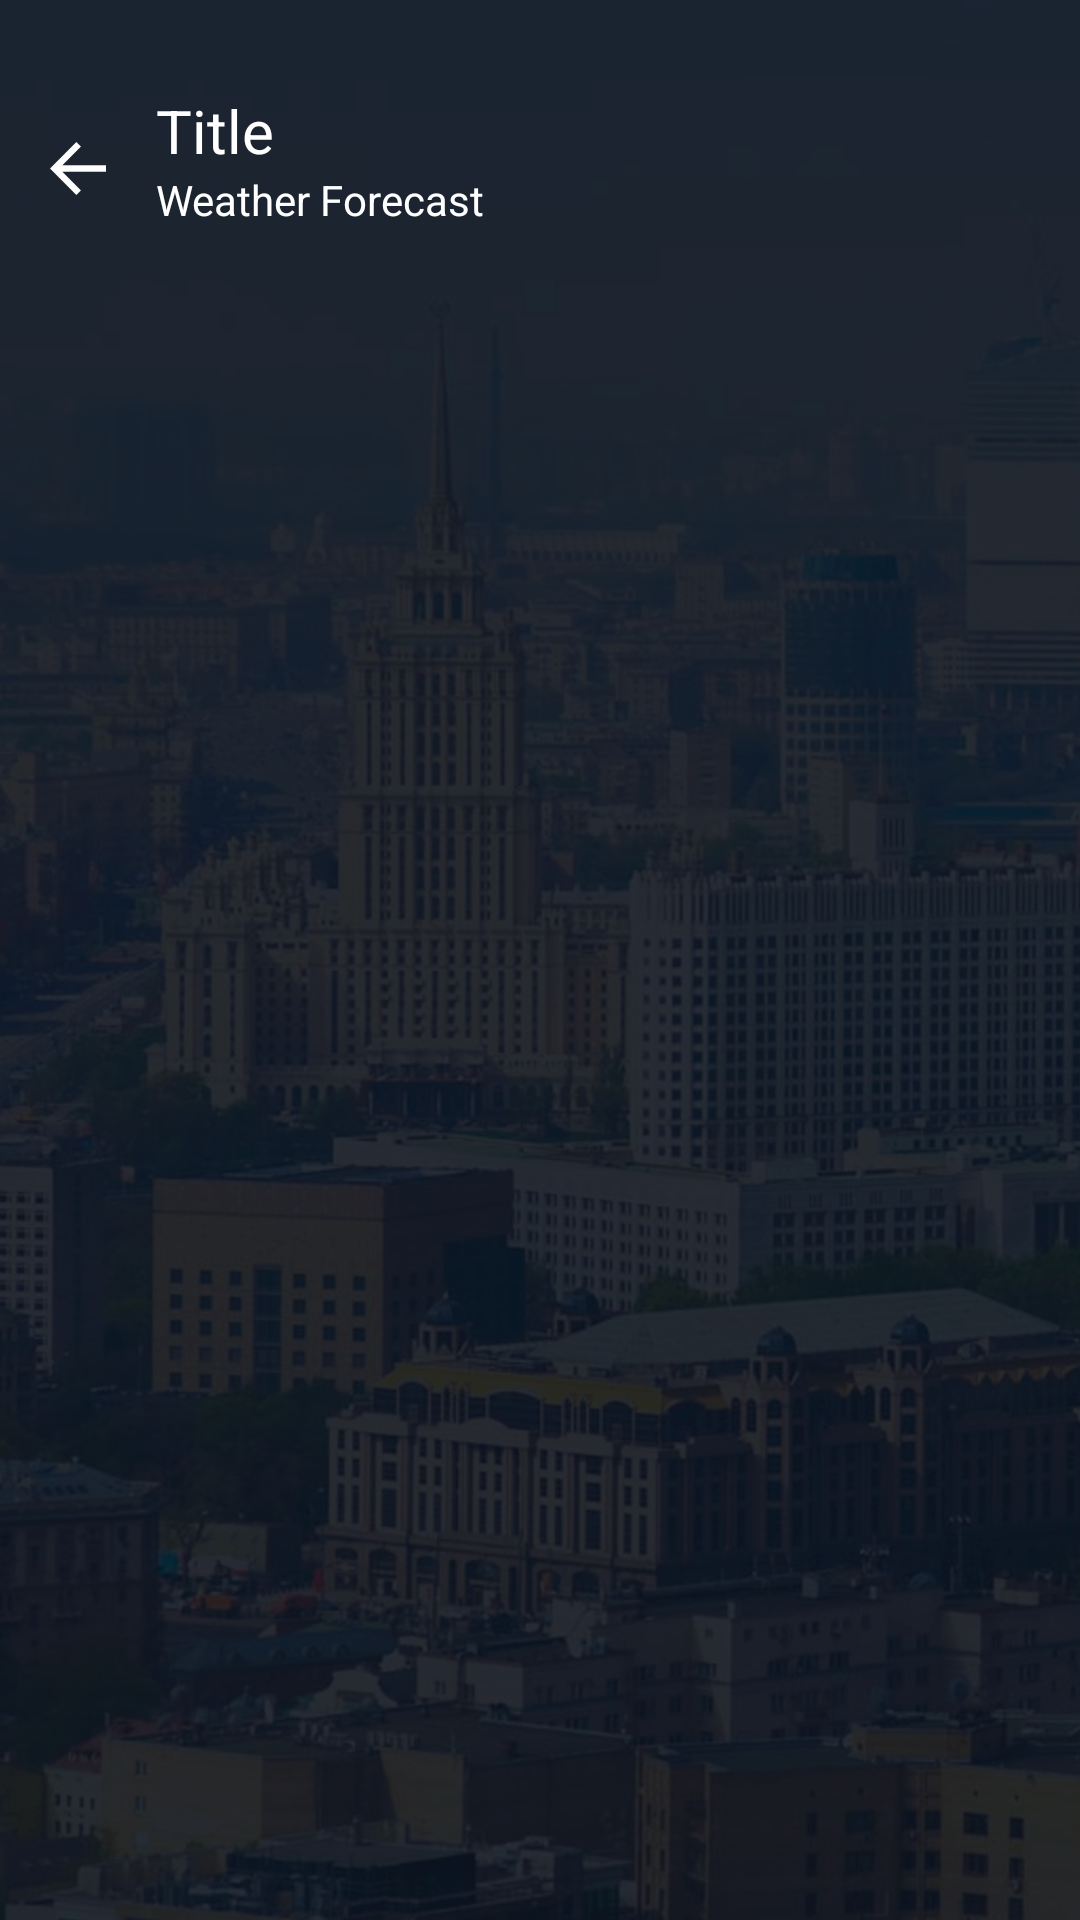

Icons on this 1080x1920 Android screen, each with the point to tap as (x,y):
back: (78,168)
